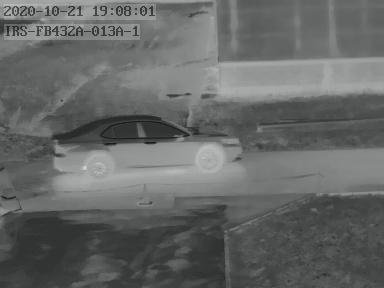vehicle: (52, 116, 242, 176)
